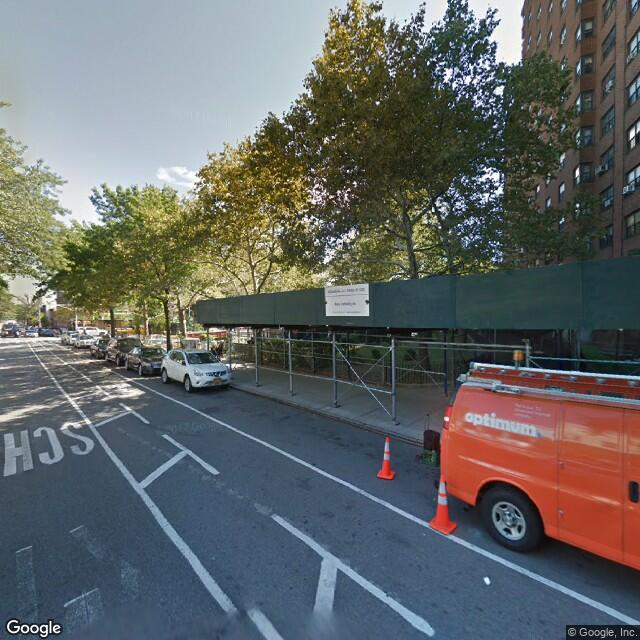litter: (481, 570, 495, 592)
